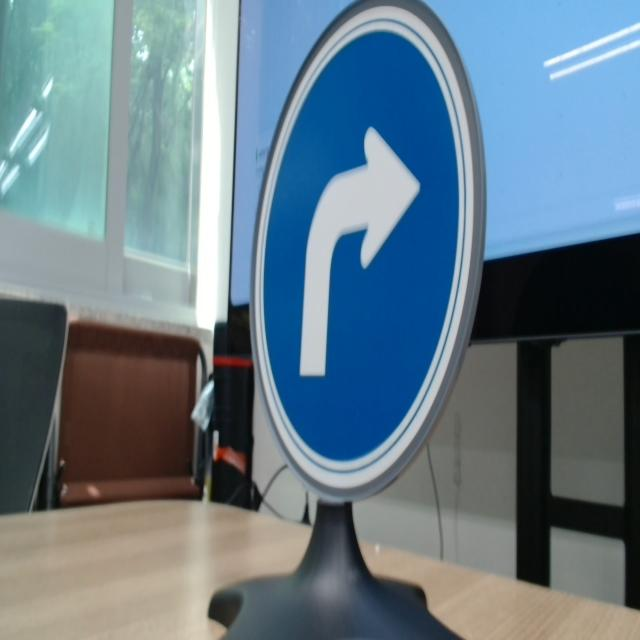right_dierection: (246, 1, 486, 504)
